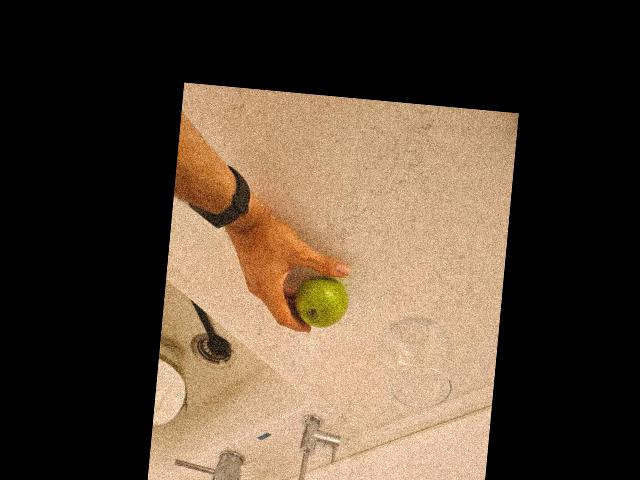apple: (286, 272, 352, 327)
